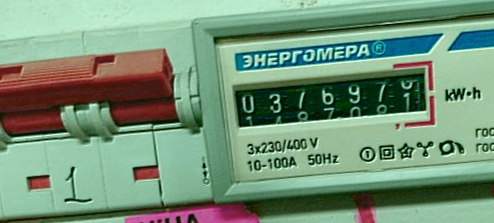0: (240, 92, 257, 115)
1: (402, 91, 413, 114)
3: (268, 92, 283, 114)
6: (319, 83, 337, 107)
7: (294, 86, 310, 111), (373, 78, 389, 102)
9: (346, 82, 363, 105)
screen: (222, 56, 442, 150)
